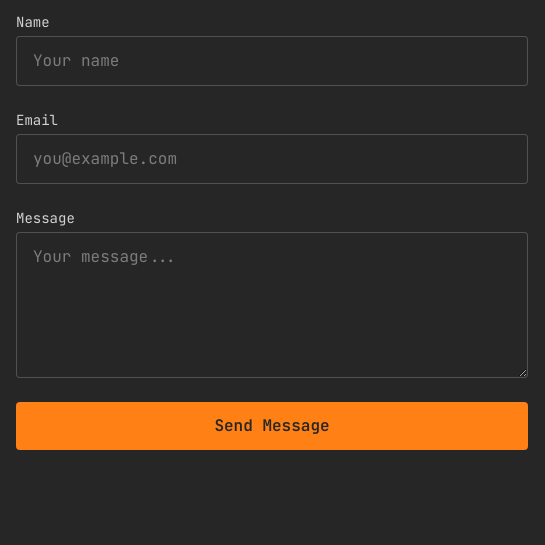
ContactForm › loading state during submission › prevents duplicate submissions by keeping button disabled during fetch
The image size is (545, 545).
In the field labelled "Name": (272, 61) [16, 36, 528, 86], type "John Doe"
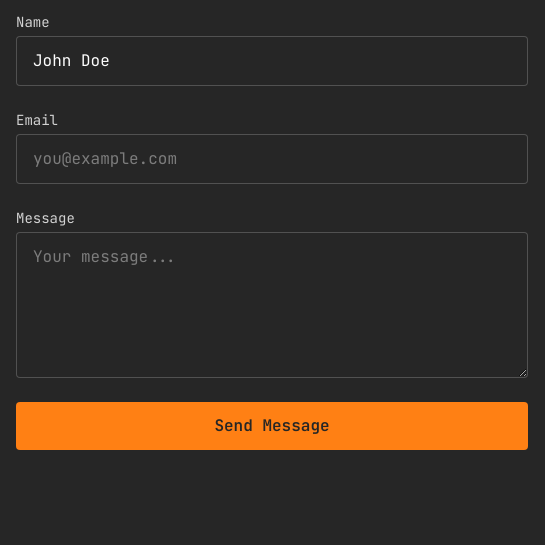
In the field labelled "Email": (272, 159) [16, 134, 528, 184], type "john@example.com"
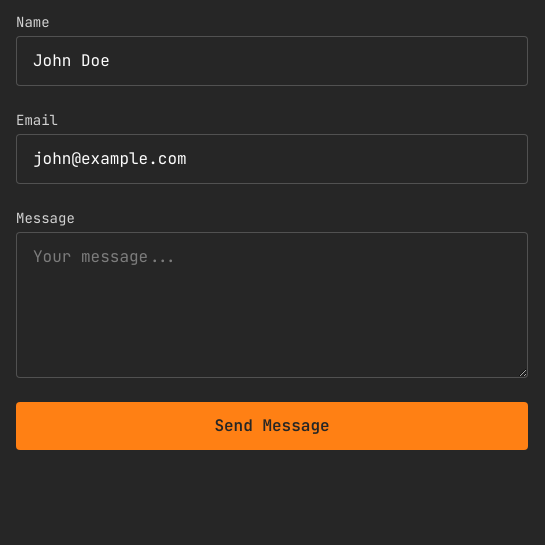
In the text box labelled "Message": (272, 305) [16, 232, 528, 378], type "Hello, this is a test message."
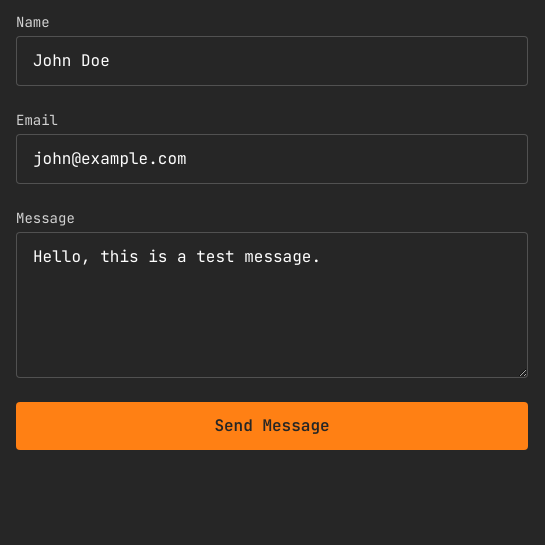
Click the button "Send Message": (272, 426) [16, 402, 528, 450]
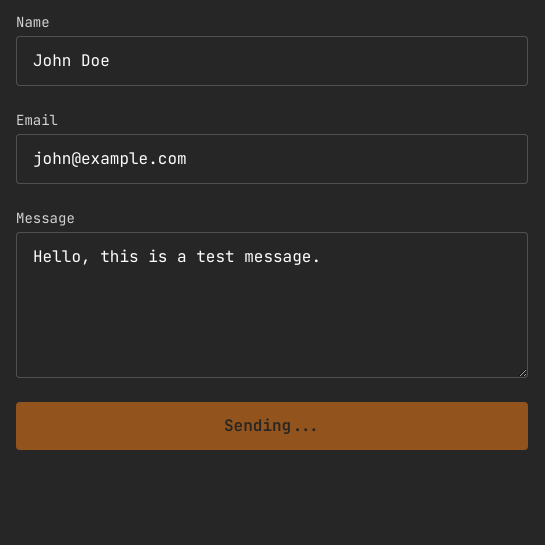
Now the button named "send message" is disabled
Click the button named "send message": (272, 426) [16, 402, 528, 450]
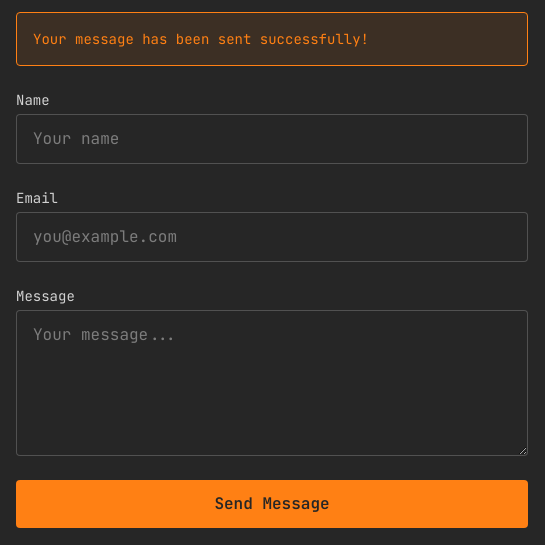
Now the button "Send Message" is enabled, box [16, 480, 528, 528]
